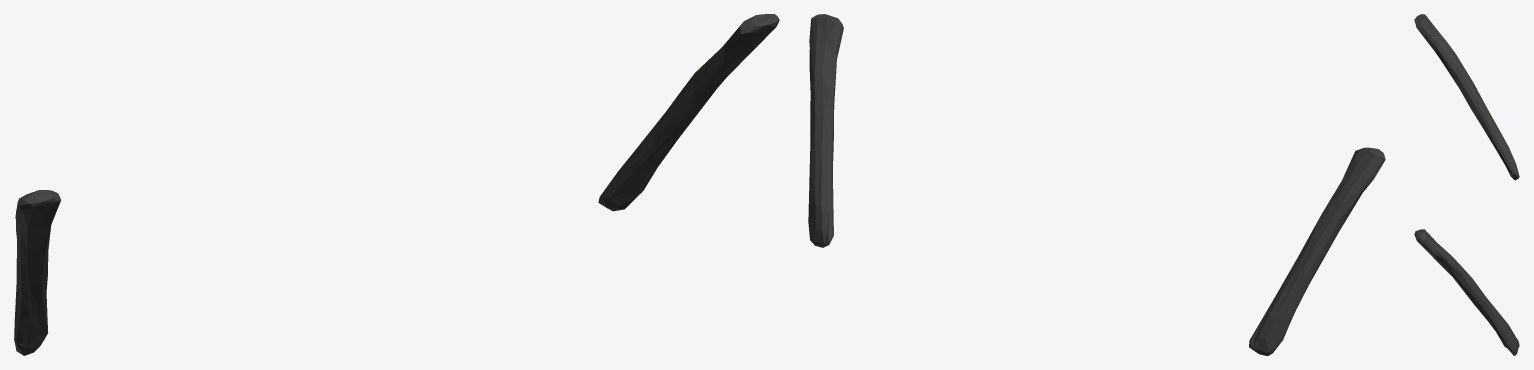
Rendered from lig_intermediate_patellar.glb.
3 views of the same model, side by side, from view 1: azimuth 30°, elevation 25°; view 2: azimuth 150°, elevation 25°; view 3: azimuth 270°, elevation 25° (orthographic). The views are drawn at different scales.
Parts seen in each view (by area): view 1: lig_intermediate_patellar; view 2: lig_intermediate_patellar; view 3: lig_intermediate_patellar.
Boxes of the visible parts, x1,y1,x2,y2 form: lig_intermediate_patellar: (14,14,779,355); lig_intermediate_patellar: (808,14,1385,355); lig_intermediate_patellar: (1414,14,1519,355).
Bounding box in the file's own units: 0.00665 × 0.00195 × 0.00131.
1 material, 1 textured.
